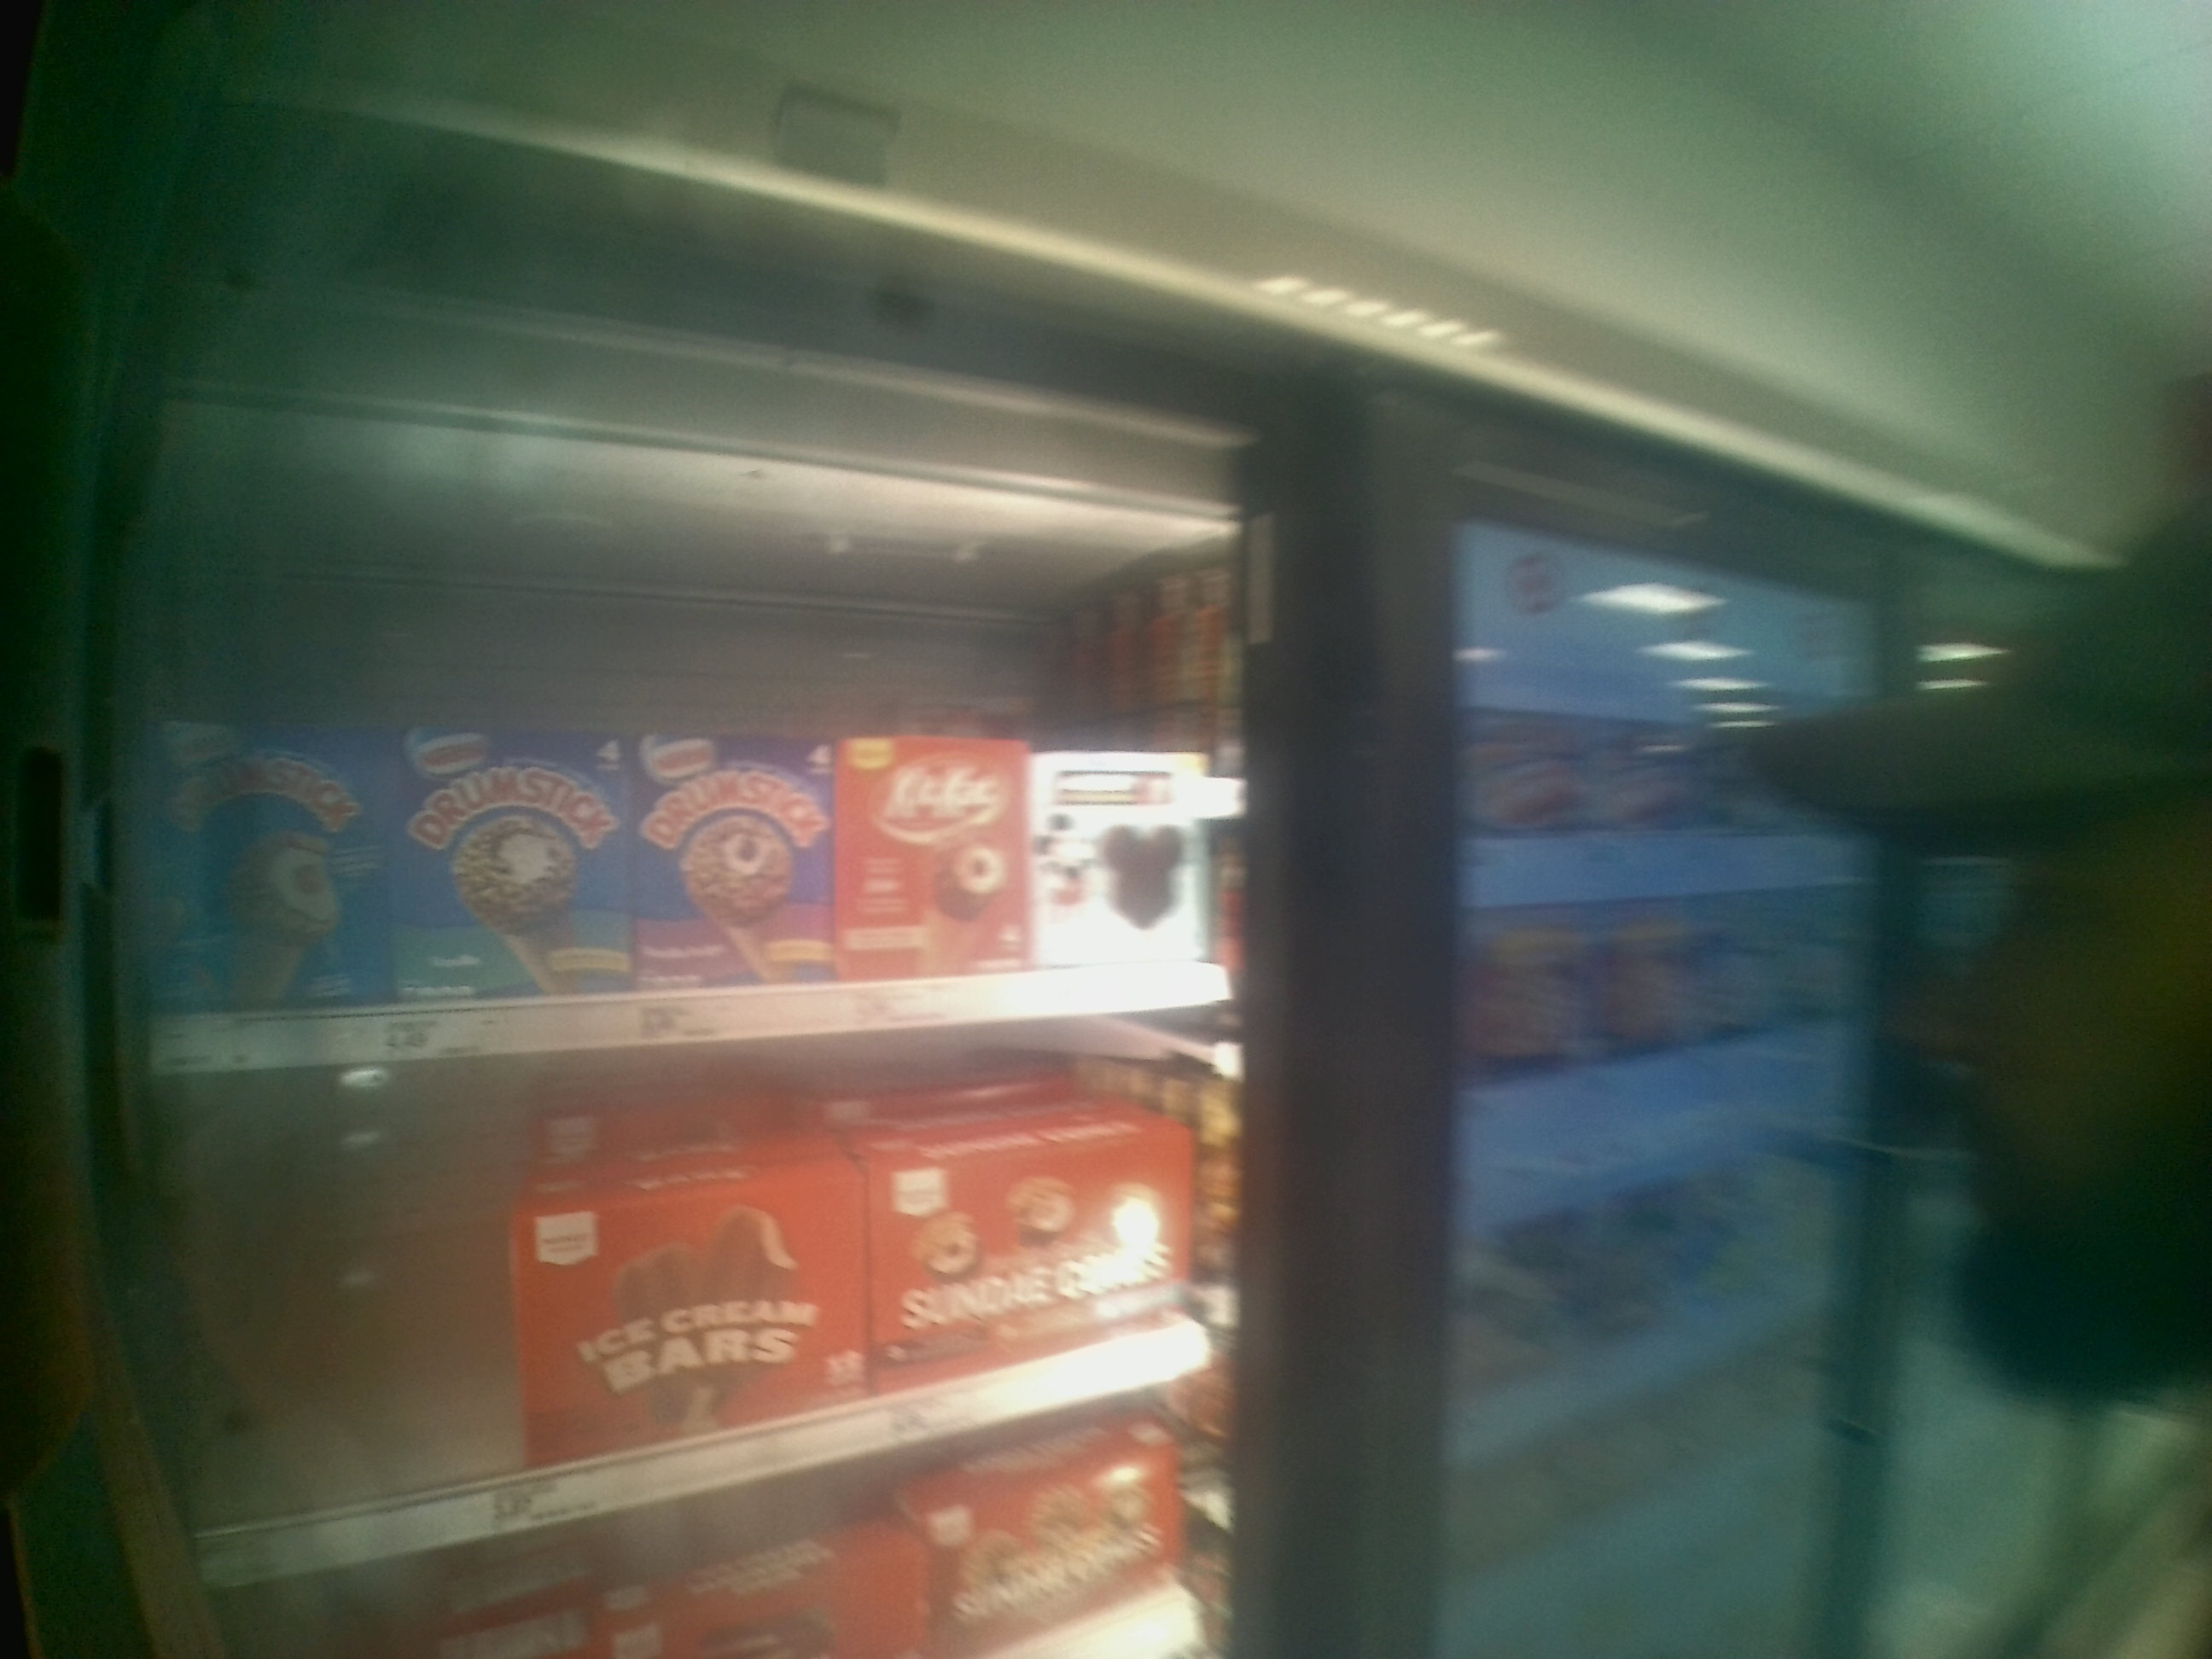shelf: (150, 1002, 1254, 1582), (99, 603, 1259, 1073)
